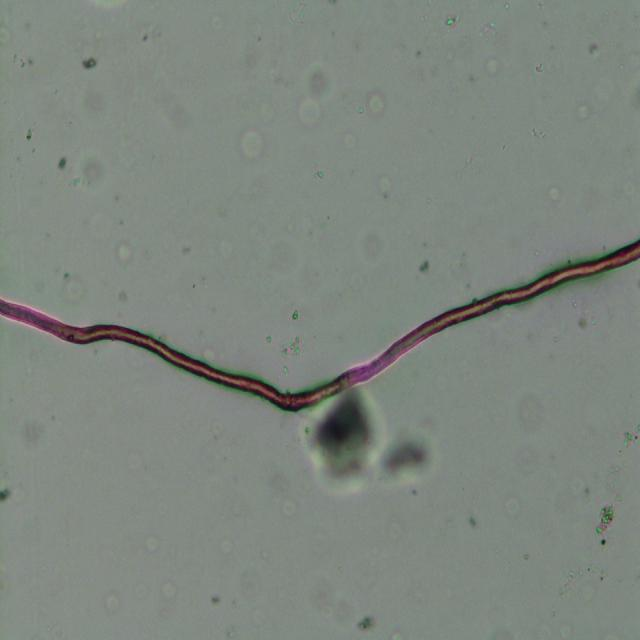Background material: (303, 386, 442, 500), (595, 417, 640, 475), (297, 63, 333, 130), (592, 490, 621, 558), (268, 471, 295, 530), (234, 118, 266, 167), (74, 151, 108, 189), (60, 264, 88, 308), (517, 392, 545, 433), (236, 564, 264, 603), (0, 468, 24, 507), (5, 44, 38, 71), (364, 87, 388, 121), (280, 334, 307, 362), (481, 53, 504, 80), (506, 495, 526, 524), (159, 576, 179, 604), (356, 610, 378, 635), (115, 235, 132, 264), (544, 180, 562, 207), (142, 532, 162, 556), (18, 124, 39, 146), (526, 55, 546, 76), (444, 10, 462, 32), (478, 27, 500, 45), (79, 52, 101, 70), (575, 100, 591, 124), (414, 256, 431, 276), (378, 174, 392, 196), (56, 155, 70, 169)
Microfibre: (0, 235, 640, 414)
